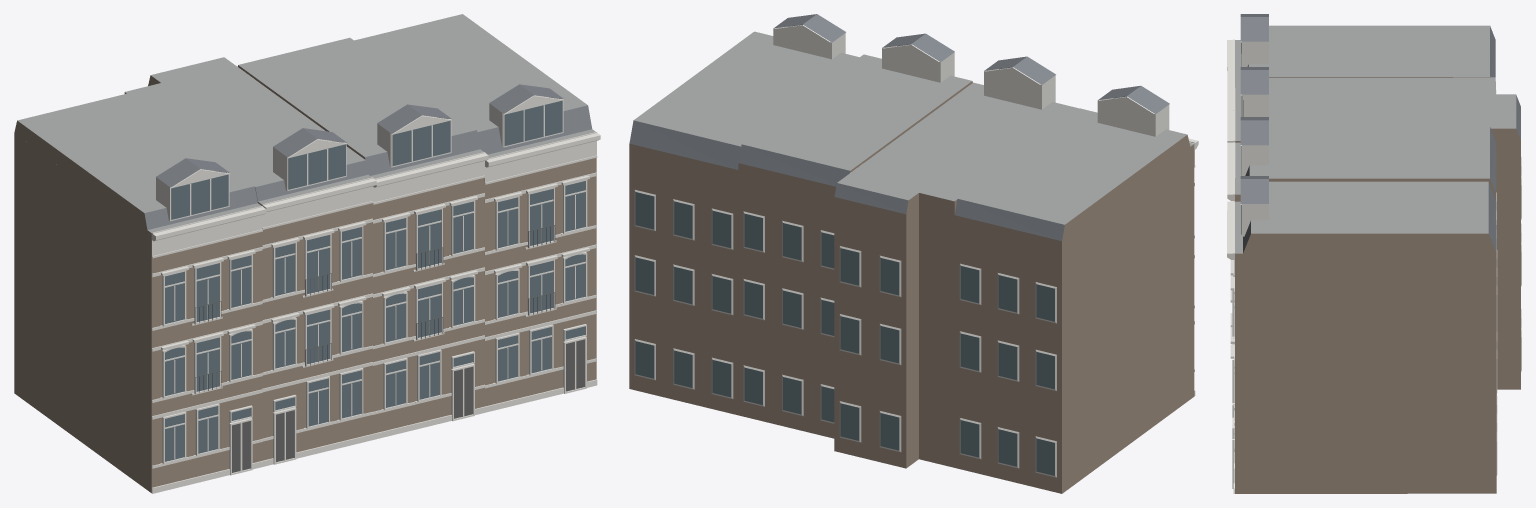
File: chunk-face-tex-1-59-r2.glb
The picture shows the model from 3 angles, left to right: view 1: azimuth 30°, elevation 25°; view 2: azimuth 150°, elevation 25°; view 3: azimuth 270°, elevation 25°; orthographic projection. The views are drawn at different scales.
Parts seen in each view (by area): view 1: face-tex-1-59-r2; view 2: face-tex-1-59-r2; view 3: face-tex-1-59-r2.
Boxes of the visible parts, x1,y1,x2,y2 form: face-tex-1-59-r2: (14,14,600,493); face-tex-1-59-r2: (629,14,1198,493); face-tex-1-59-r2: (1227,14,1521,493).
Size of the model in its own units: 24.56 by 16.39 by 14.79.
